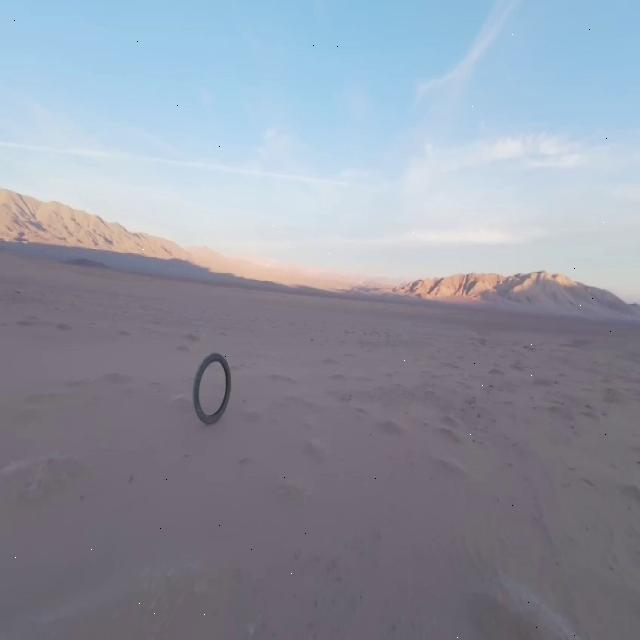Tire: (192, 352, 230, 423)
